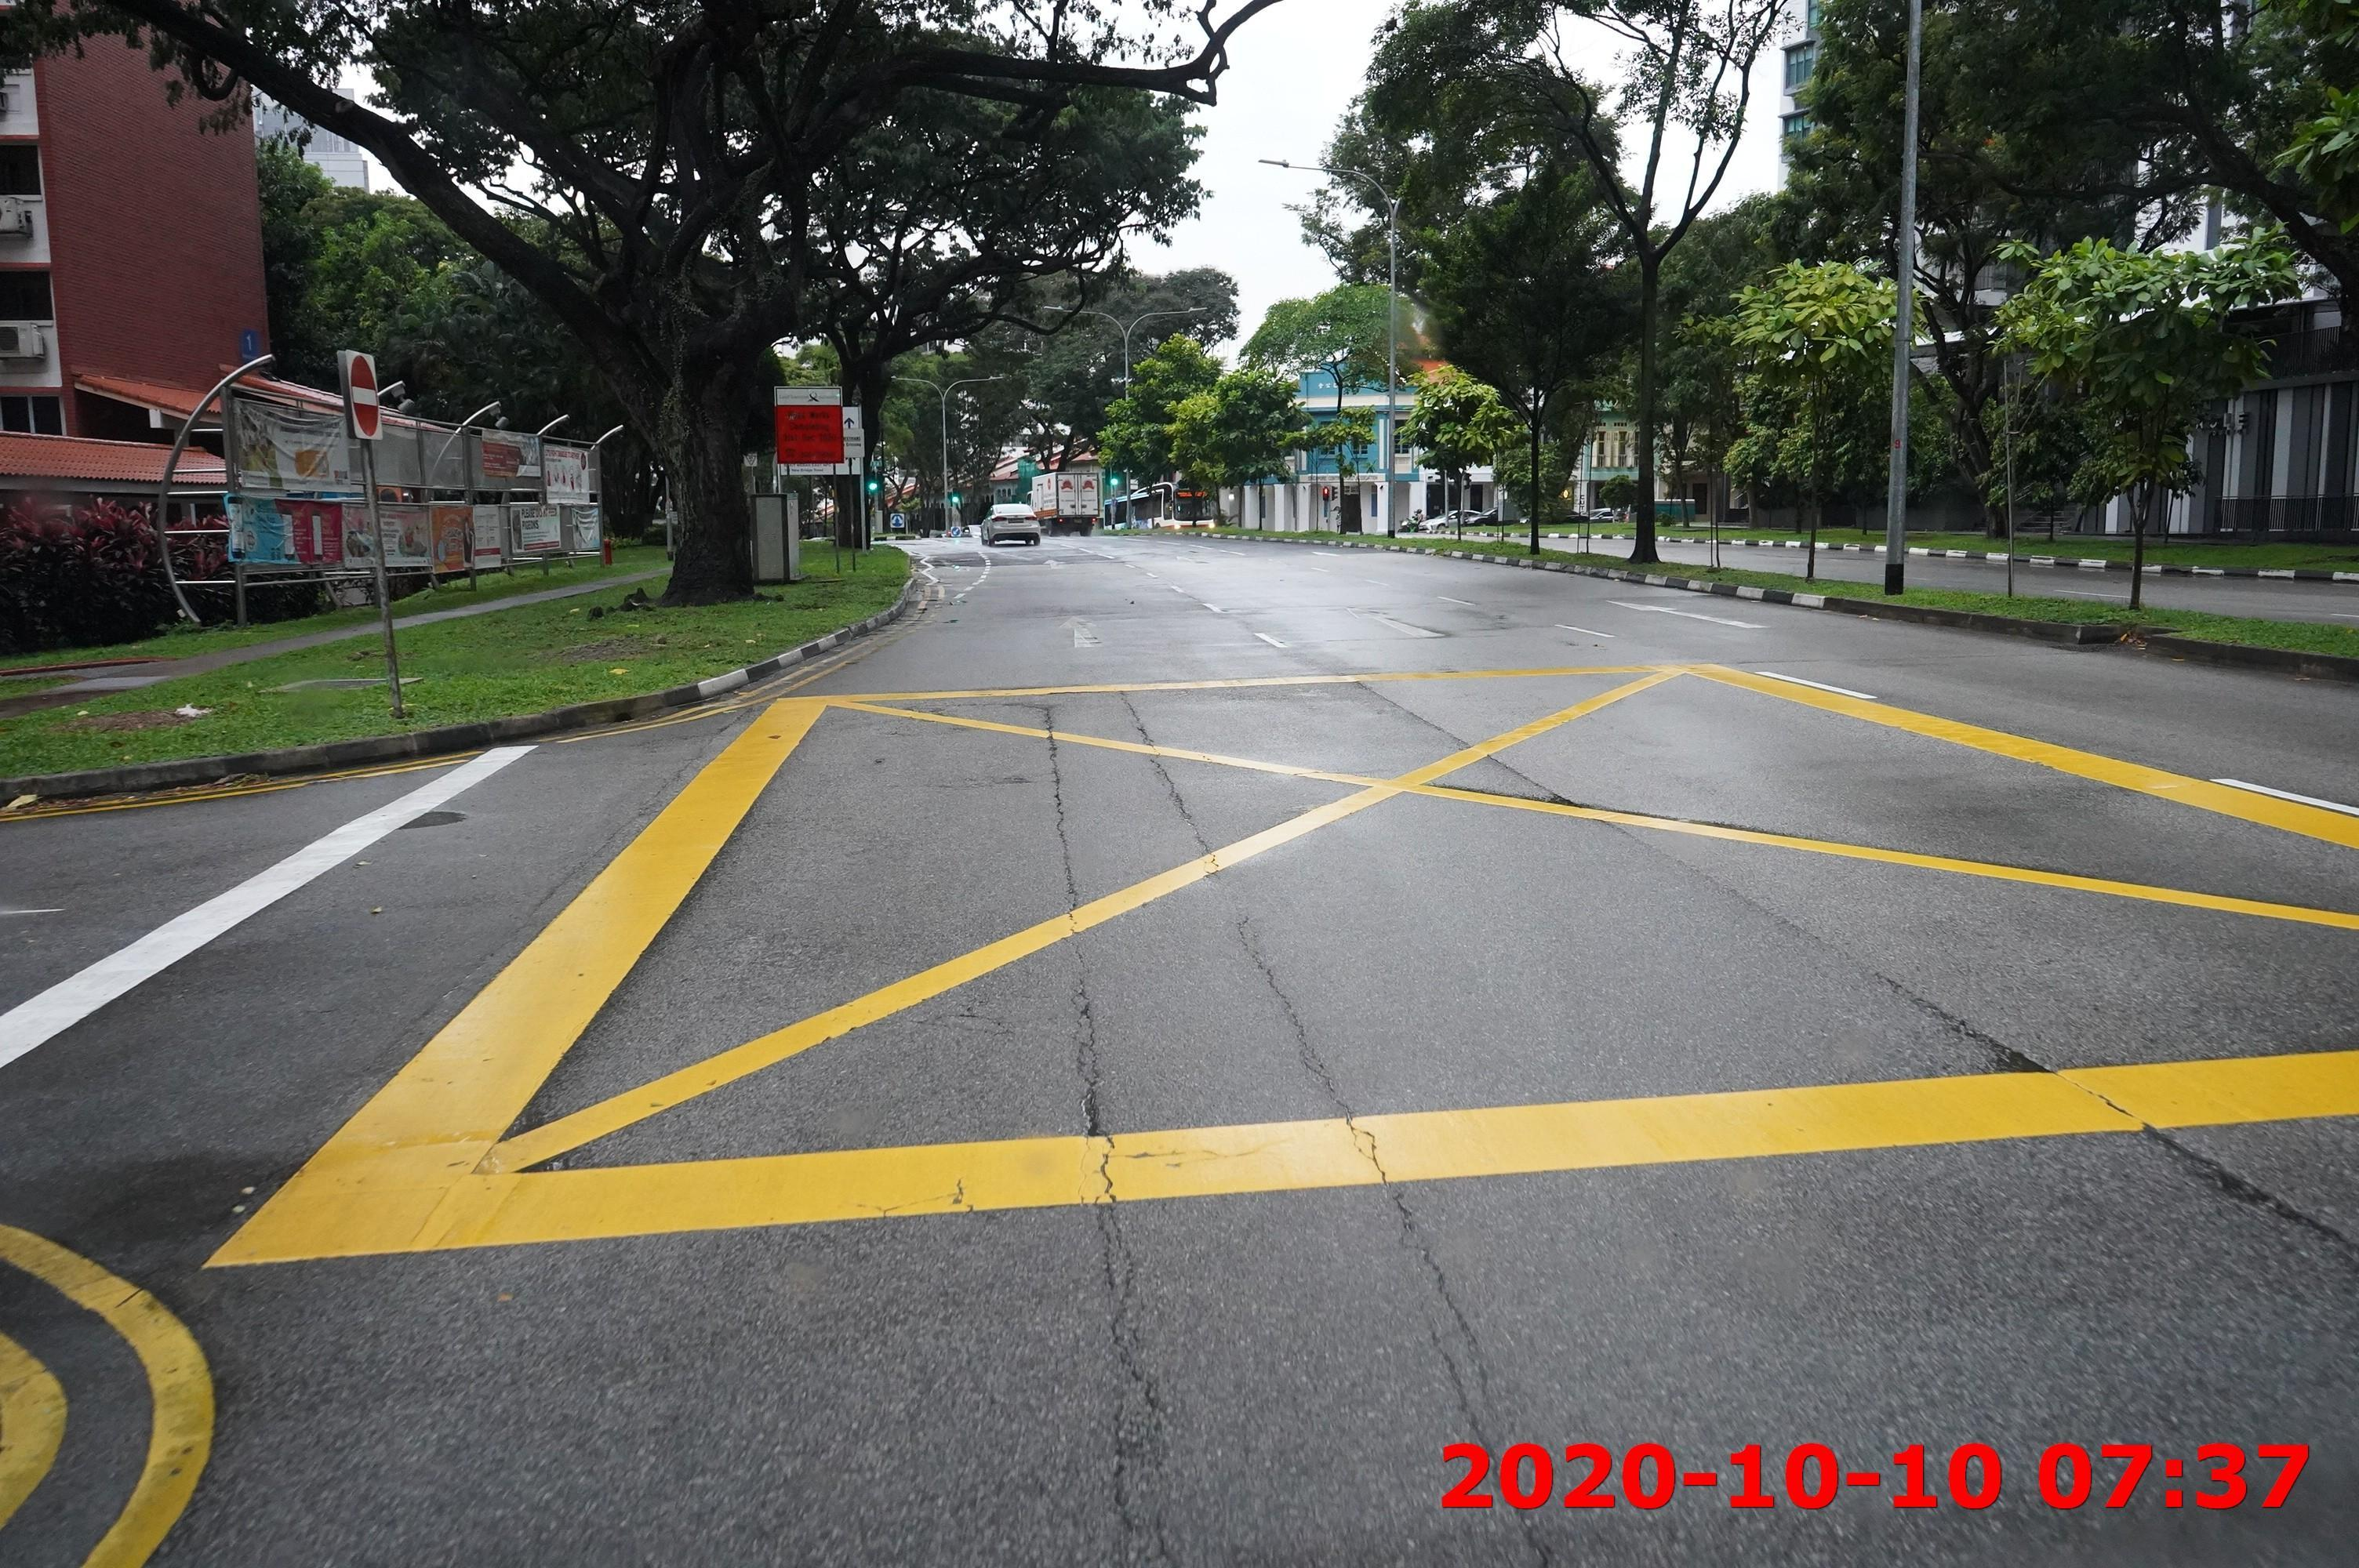single crack: (1197, 821, 1531, 1435), (1010, 816, 1190, 1547)
